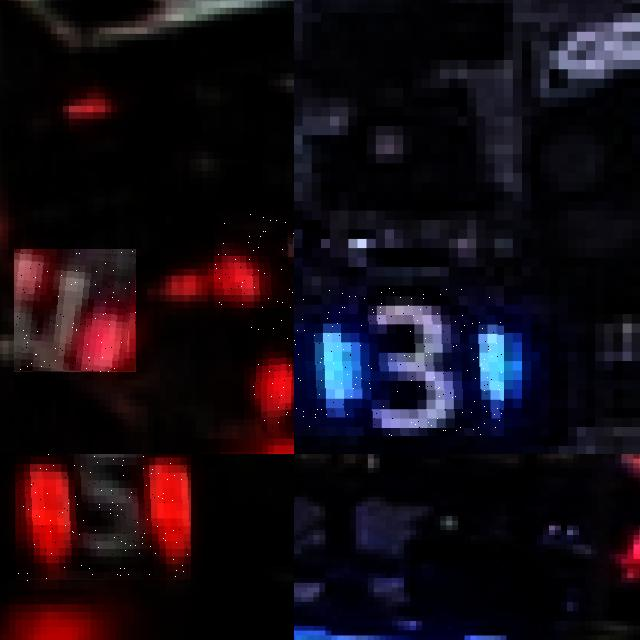B3: (294, 285, 503, 436)
R1: (14, 250, 136, 374), (213, 210, 294, 308), (249, 314, 294, 432)
R5: (15, 454, 190, 581)
